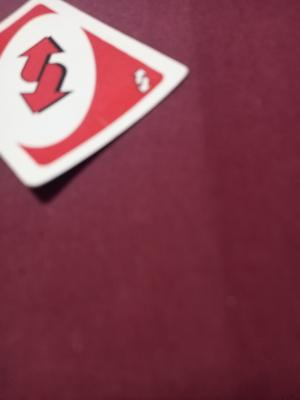reverse: (14, 31, 78, 121), (128, 61, 155, 99)
